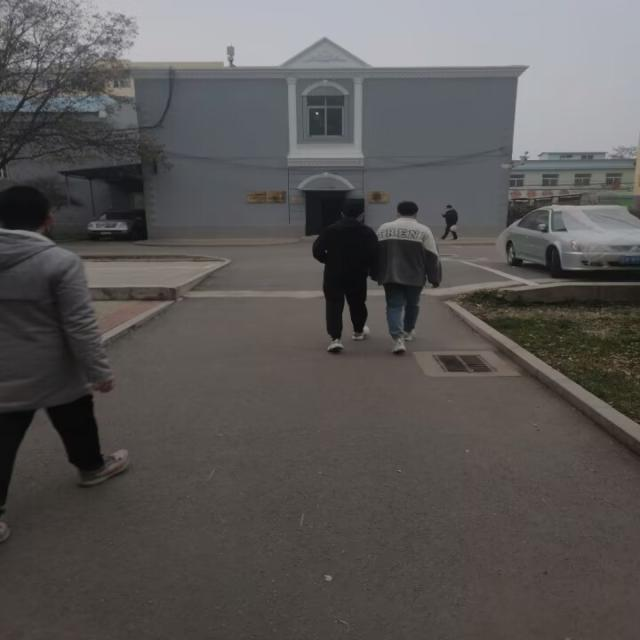non-fight: (0, 185, 136, 564), (308, 195, 378, 358), (377, 198, 441, 354), (440, 200, 461, 242)
